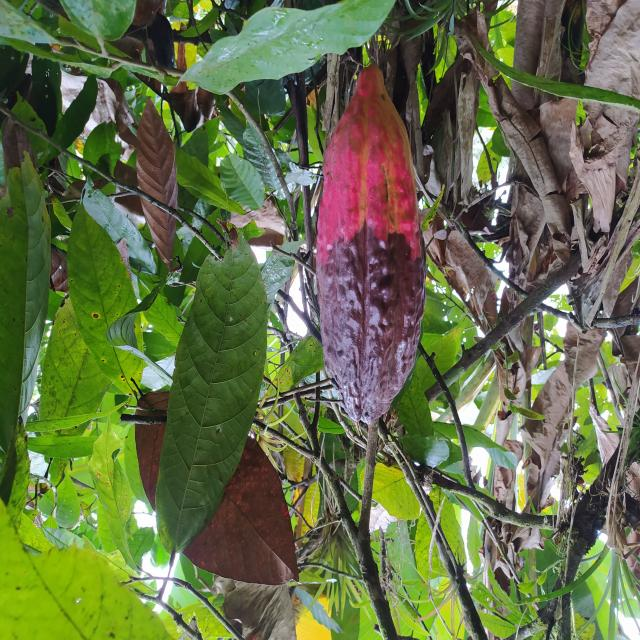Fitoftora: (316, 63, 426, 424)
